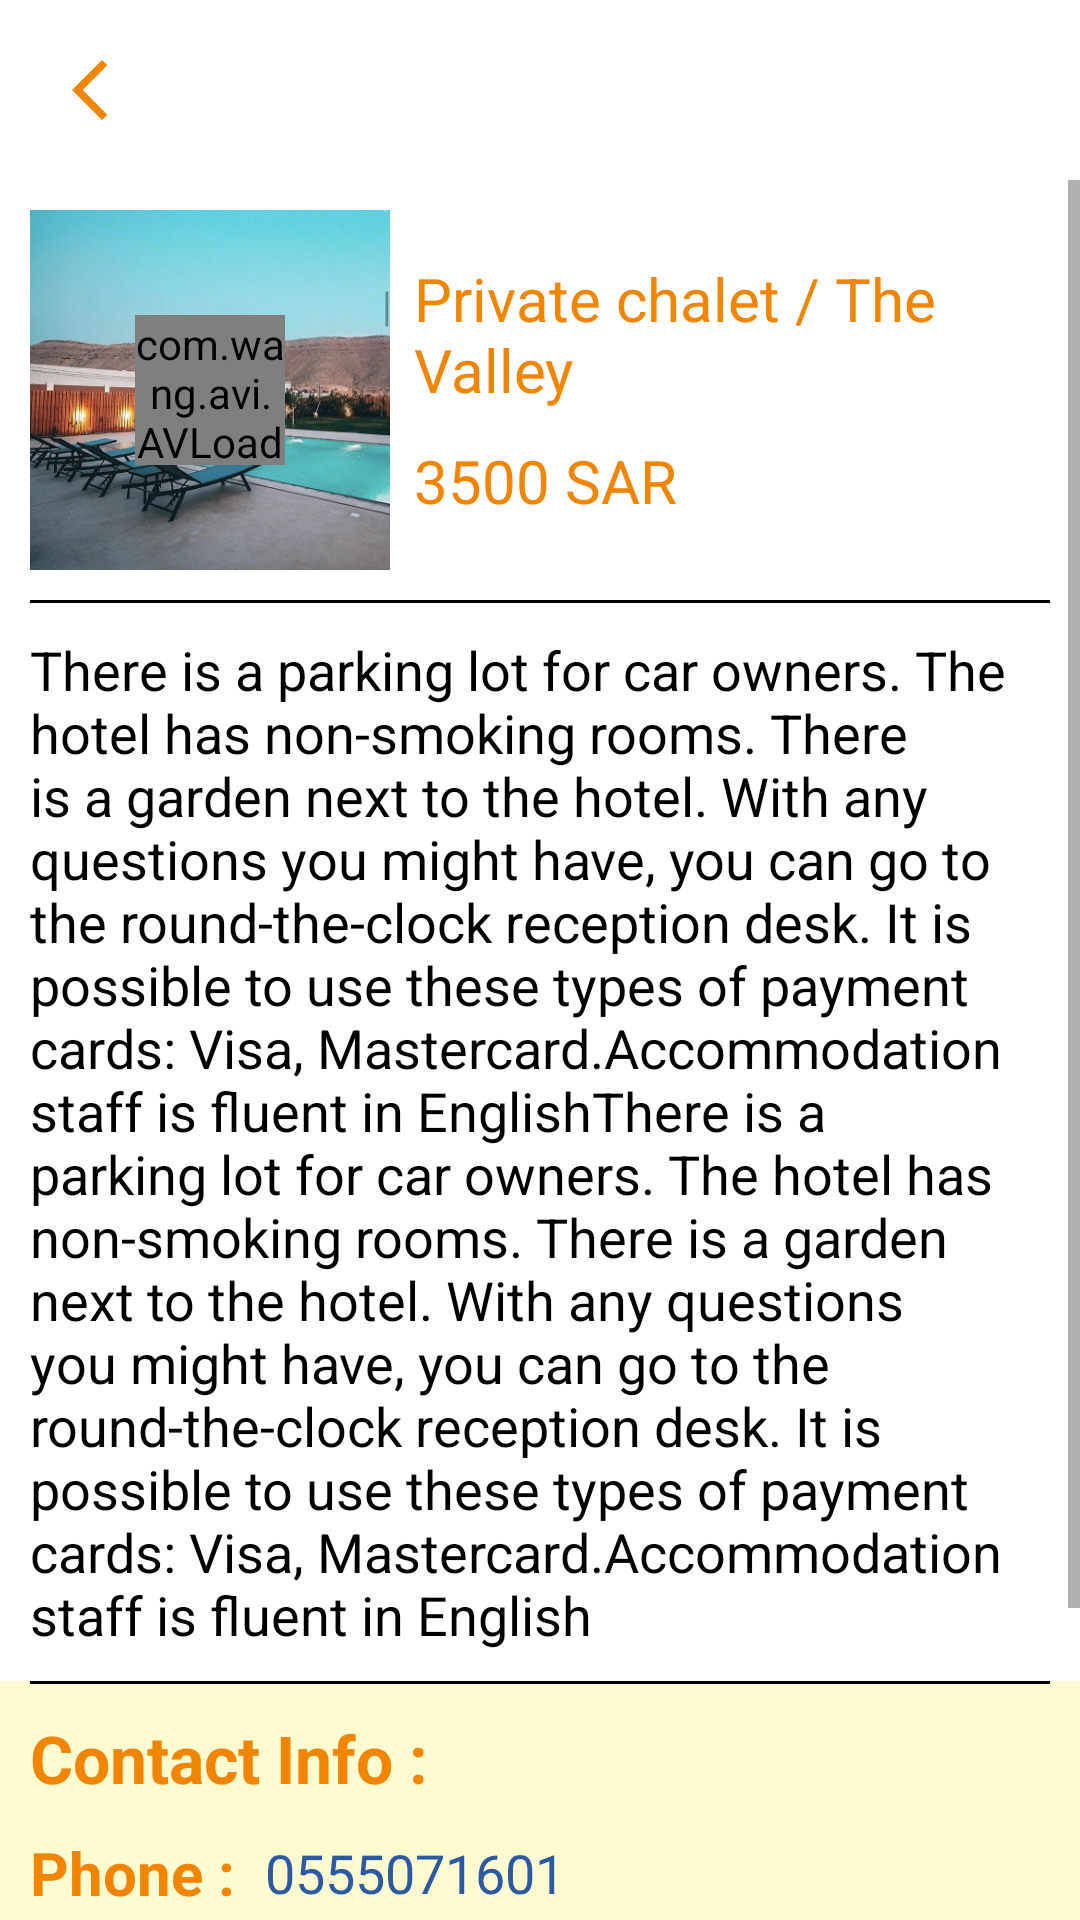

Icons on this 1080px x 1920px Android screen, each with its box as (x1, y1, x2, y2):
back: (72, 60, 107, 120)
places: (30, 210, 390, 570)
